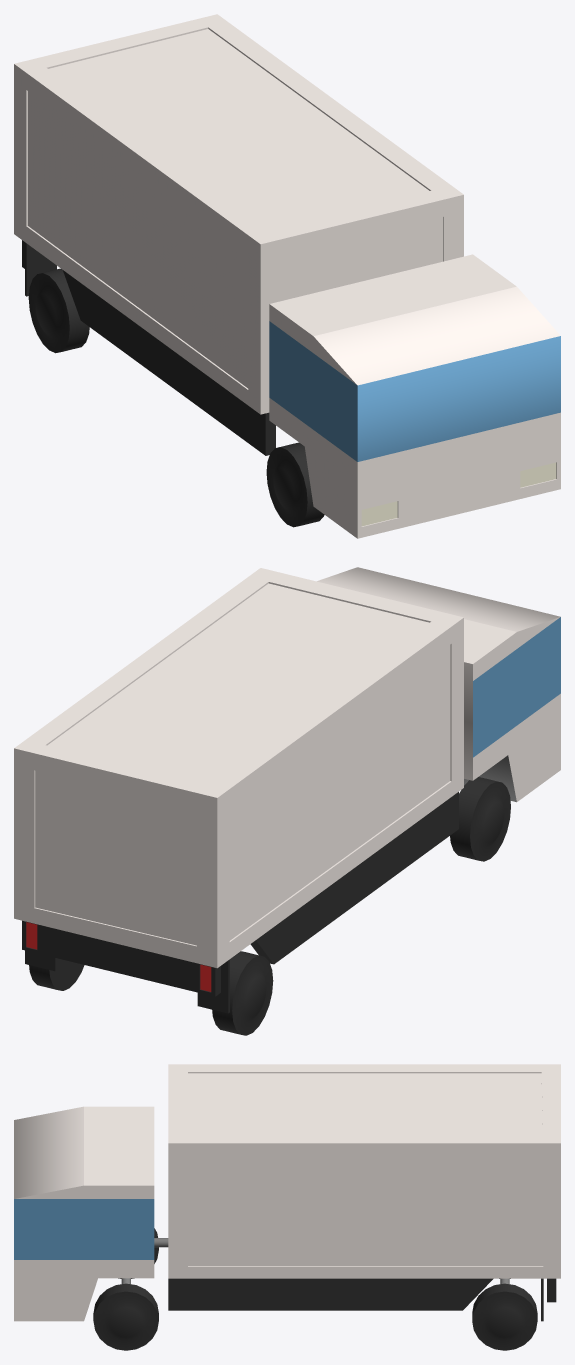
Rendered from Truck Obstacle.fbx.
The picture shows the model from 3 angles, top to bottom: view 1: azimuth 30°, elevation 25°; view 2: azimuth 150°, elevation 25°; view 3: azimuth 270°, elevation 25°; orthographic projection. The views are drawn at different scales.
Visible parts, largest first — view 1: TruckDoubleBox1; view 2: TruckDoubleBox1; view 3: TruckDoubleBox1.
Part boxes in pixels (<box>): TruckDoubleBox1: <box>14,14,560,538</box>; TruckDoubleBox1: <box>14,567,560,1035</box>; TruckDoubleBox1: <box>14,1064,560,1350</box>.
Bounding box in the file's own units: 206 × 245 × 585.
1 material, 1 textured.
